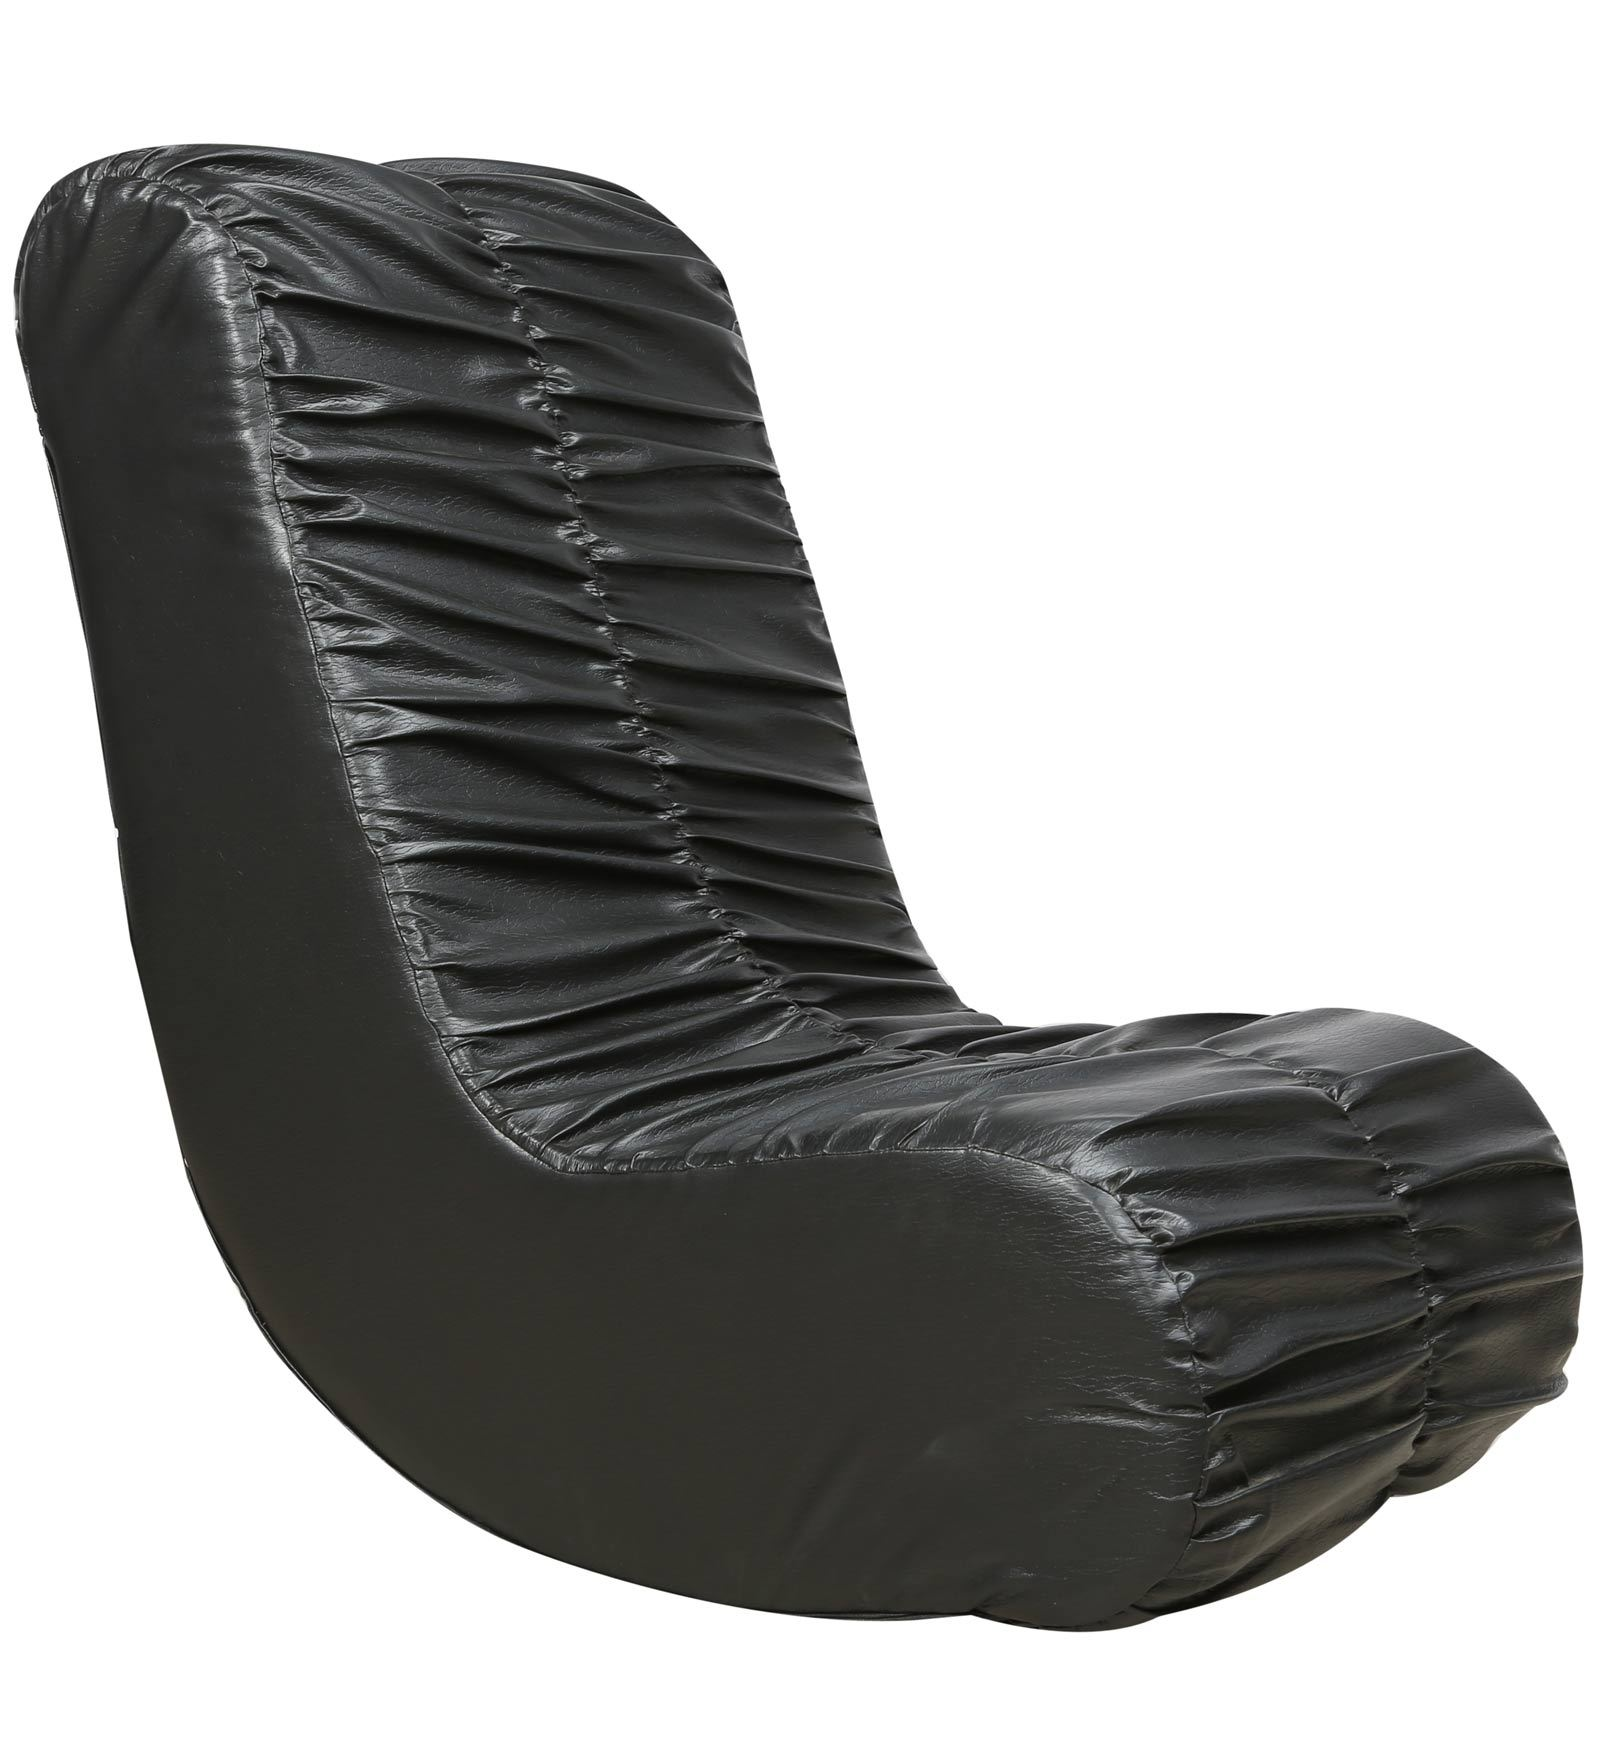Daisy Rocking Chair in Black Colour by Parin: (18, 94, 1600, 1689)
